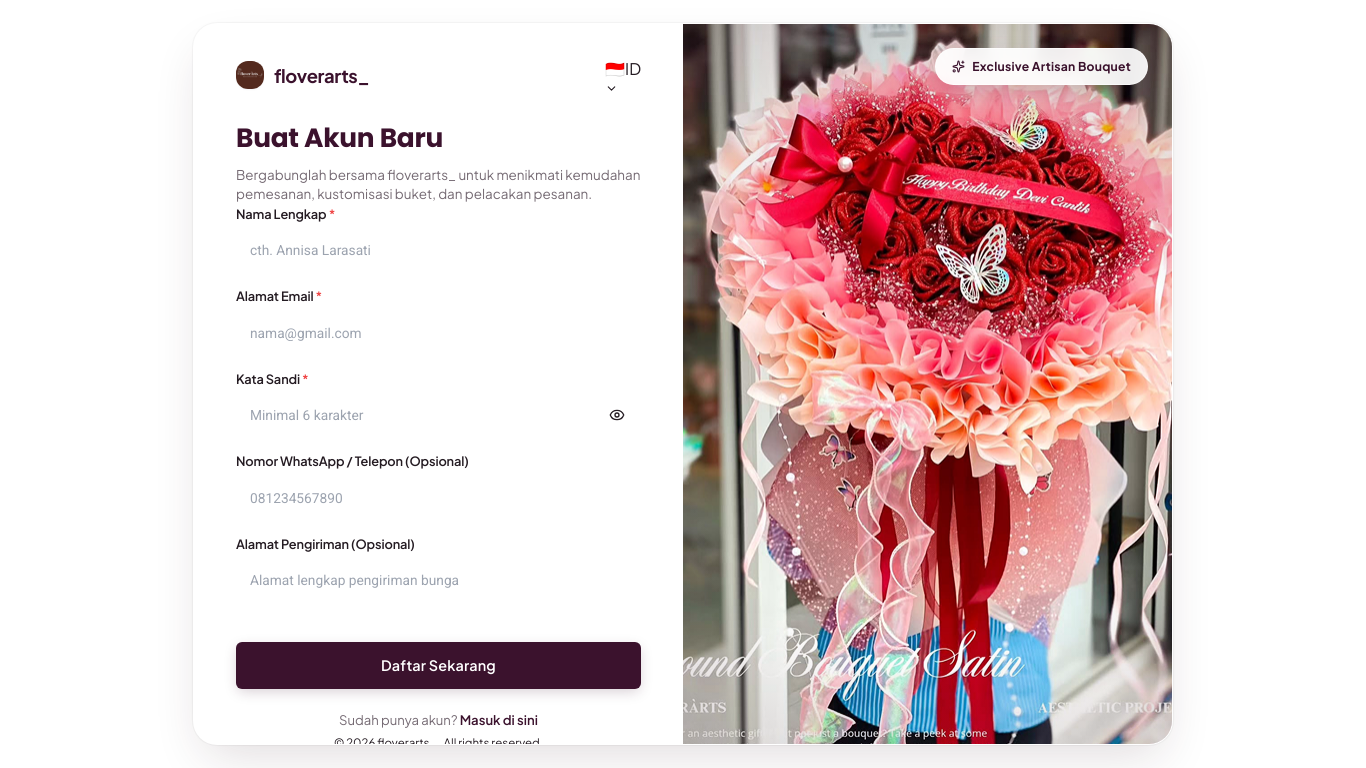
it: RegisterForm Component › harus memvalidasi kata sandi kurang dari 6 karakter
Type "Budi Santoso" into the field labelled "Nama Lengkap *". click: (438, 250)
box: [236, 229, 641, 271]
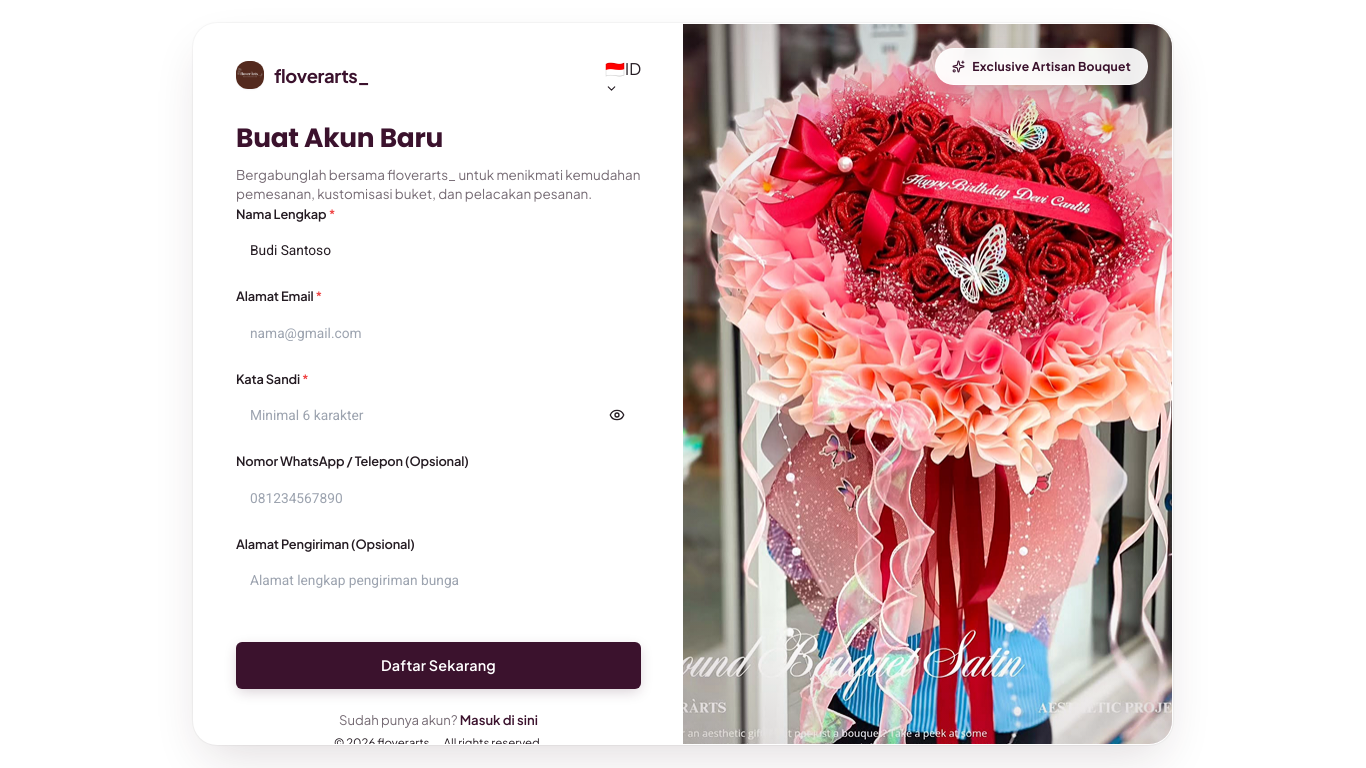
Type "budi@example.com" into the field labelled "Alamat Email *". click: (438, 333)
box: [236, 312, 641, 354]
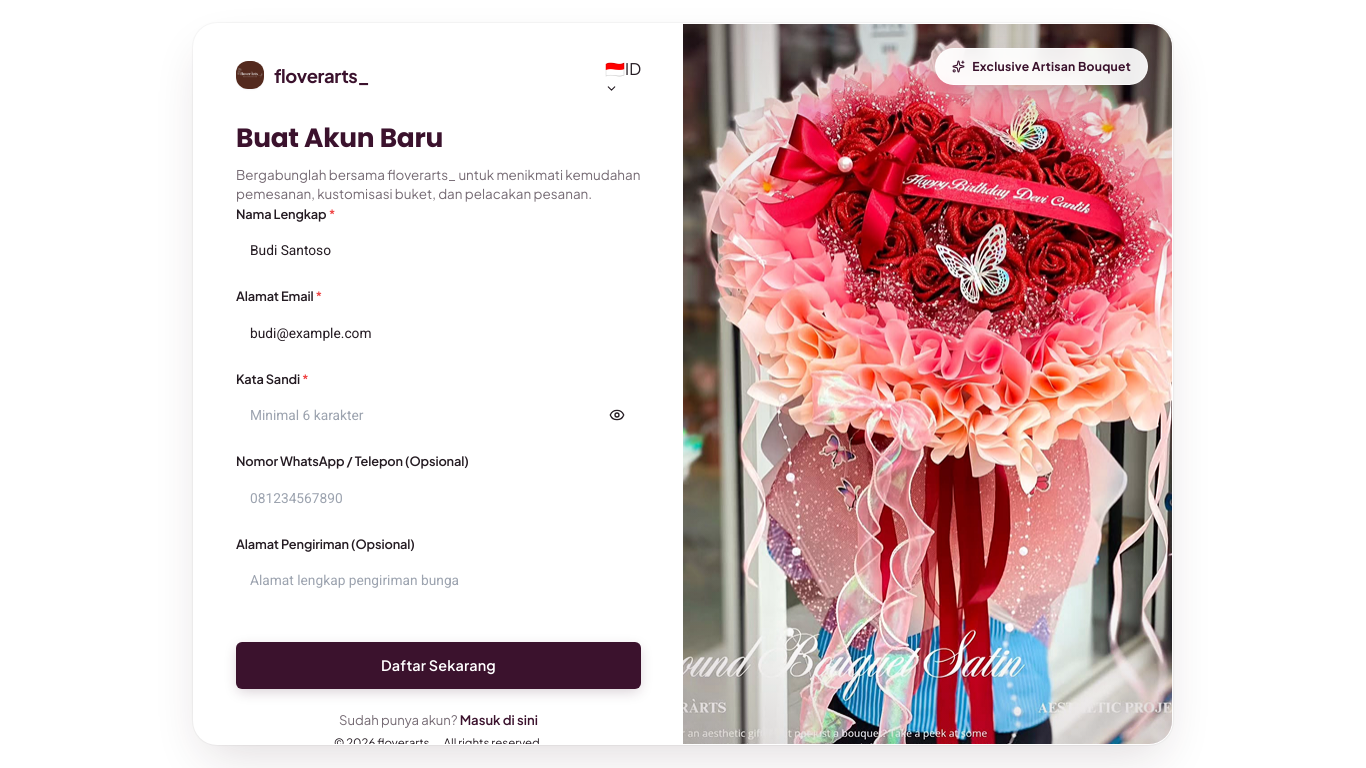
Type "123" into the password field with placeholder "Minimal 6 karakter". click: (438, 415)
box: [236, 394, 641, 436]
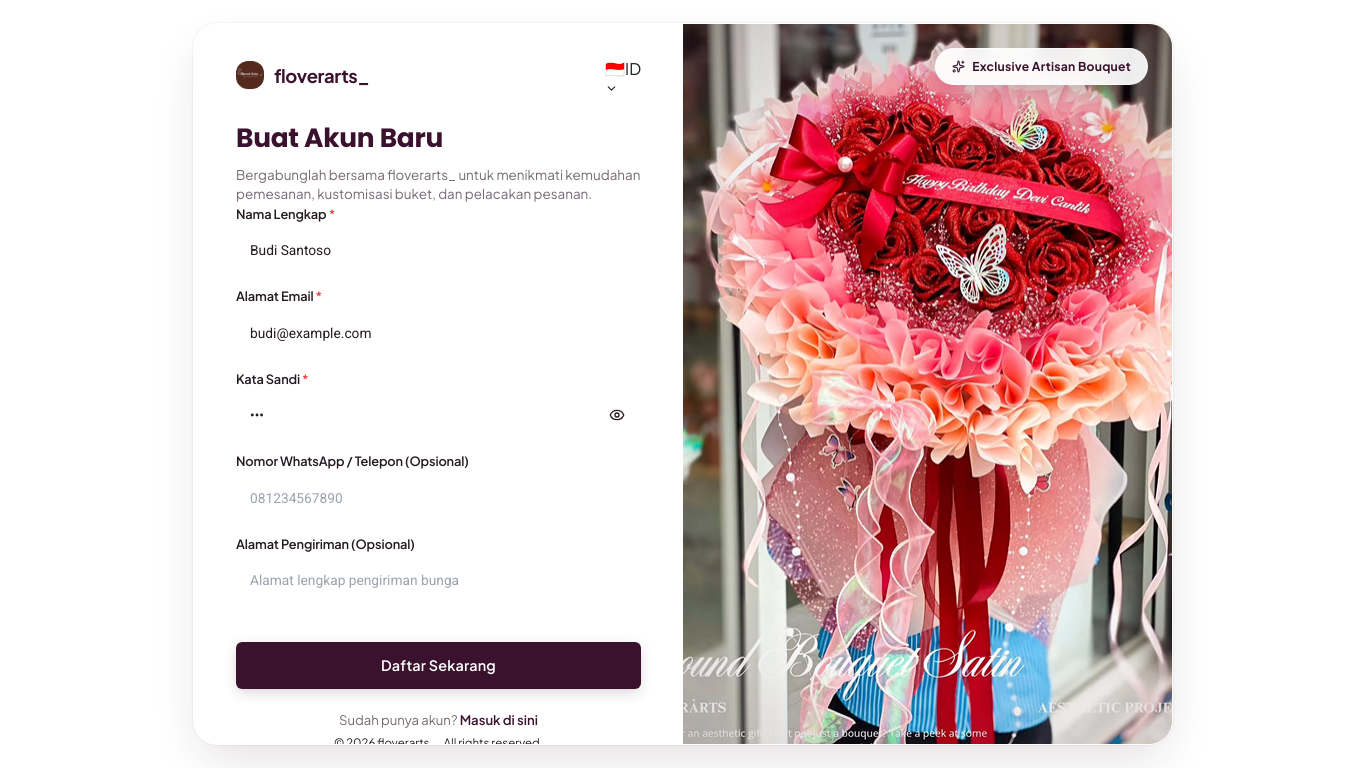
Click the button "Daftar Sekarang". click: (438, 666)
box: [236, 642, 641, 689]
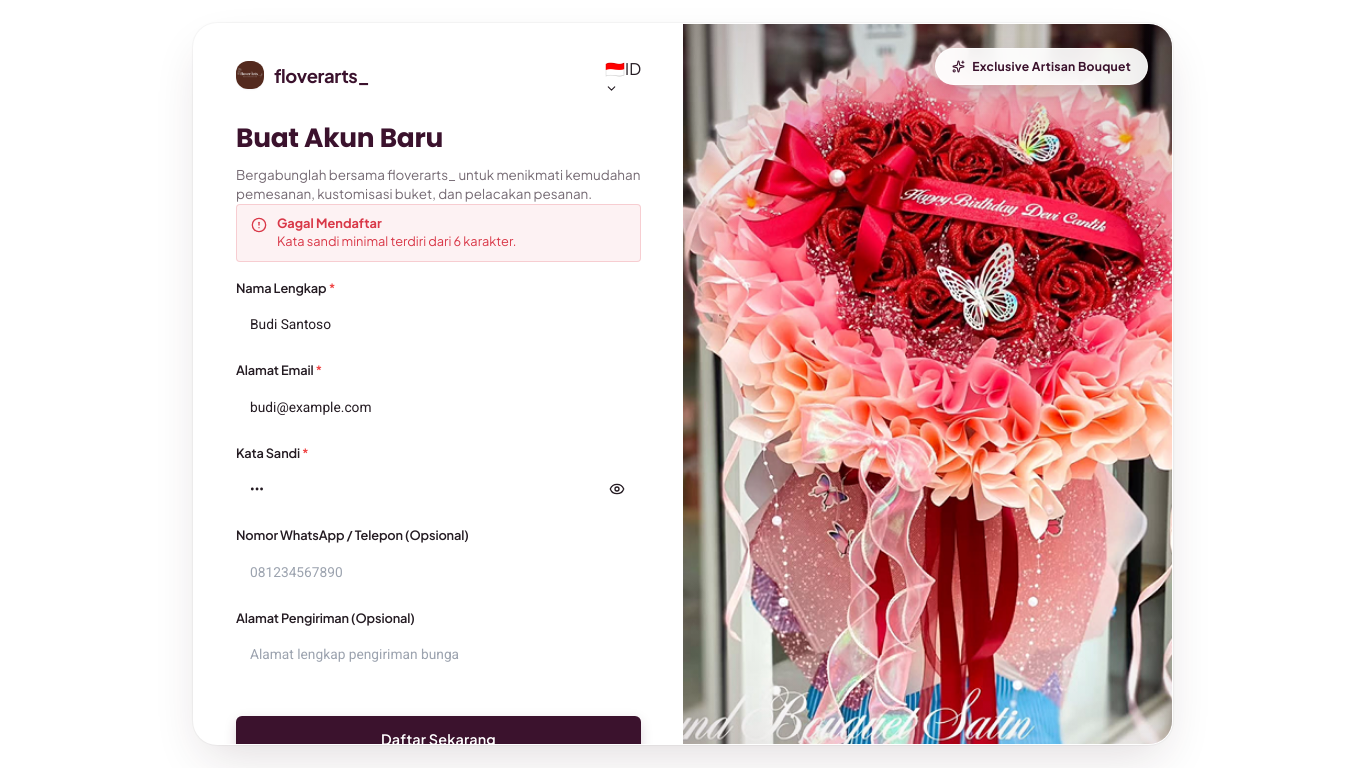
Expected: the text "Kata sandi minimal terdiri dari 6 karakter." is shown, [277, 233, 516, 251]
